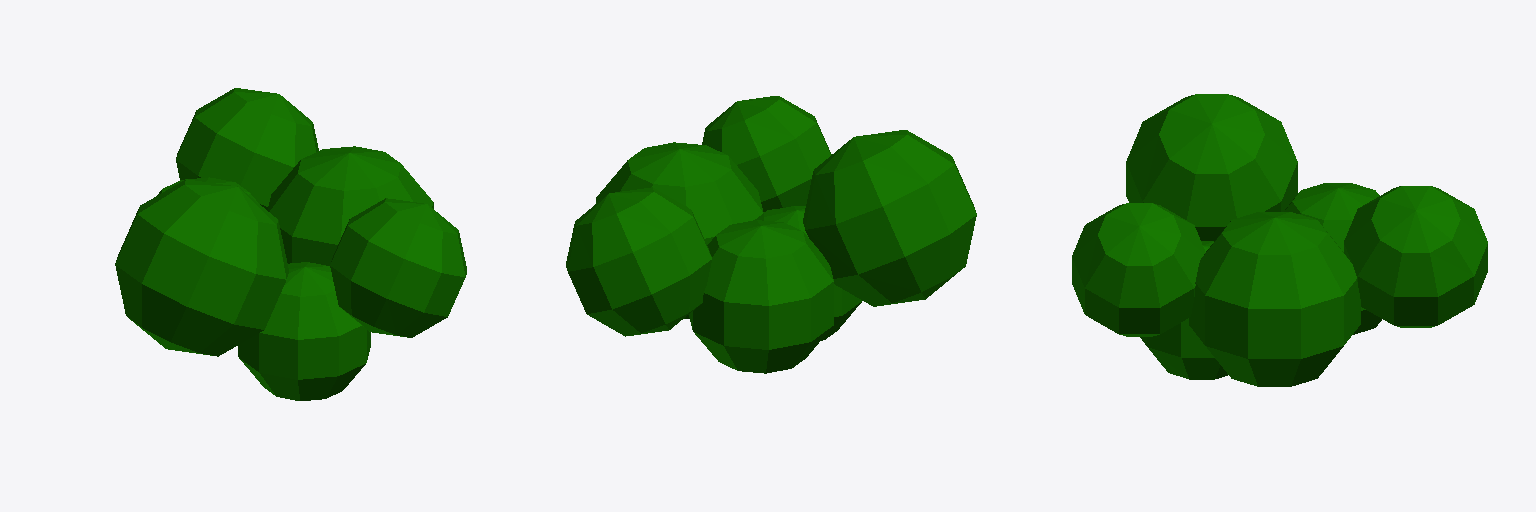
File: apples.obj
3 renders of one model, left to right at view 1: azimuth 30°, elevation 25°; view 2: azimuth 150°, elevation 25°; view 3: azimuth 270°, elevation 25°, orthographic.
Visible parts, largest first — view 1: apple_02, apple_01, apple_04, apple_03, apple_05; view 2: apple_02, apple_06, apple_03, apple_01, apple_05, apple_04; view 3: apple_05, apple_02, apple_03, apple_01, apple_06, apple_04.
Part boxes in pixels (left/top/right/bottom): apple_02: left=115, top=179, right=288, bottom=356; apple_01: left=330, top=198, right=466, bottom=337; apple_04: left=238, top=262, right=370, bottom=400; apple_03: left=176, top=88, right=318, bottom=209; apple_05: left=267, top=146, right=433, bottom=265; apple_02: left=803, top=130, right=976, bottom=306; apple_06: left=689, top=220, right=833, bottom=373; apple_03: left=566, top=187, right=711, bottom=336; apple_01: left=702, top=96, right=831, bottom=211; apple_05: left=596, top=142, right=763, bottom=318; apple_04: left=764, top=206, right=861, bottom=340; apple_05: left=1189, top=212, right=1360, bottom=386; apple_02: left=1126, top=94, right=1297, bottom=240; apple_03: left=1344, top=186, right=1487, bottom=327; apple_01: left=1072, top=203, right=1205, bottom=336; apple_06: left=1284, top=183, right=1381, bottom=334; apple_04: left=1140, top=241, right=1227, bottom=379.
Size of the model in its own units: 0.1924 by 0.1298 by 0.2146.